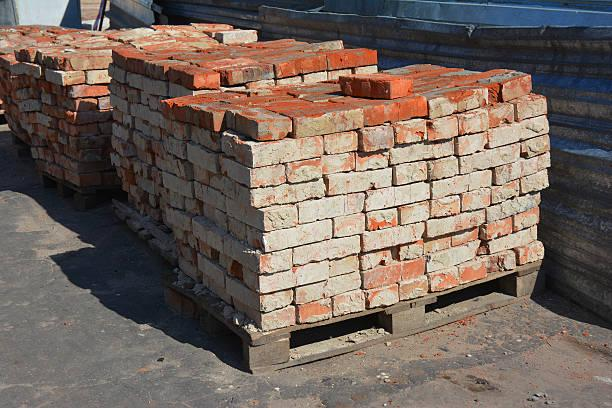Bricks: (243, 260, 329, 294), (231, 135, 322, 167), (264, 220, 331, 252), (293, 108, 365, 137), (294, 236, 362, 266), (296, 273, 361, 304), (489, 115, 550, 148), (459, 142, 520, 174), (362, 222, 427, 252), (231, 241, 293, 272), (278, 97, 356, 120), (367, 183, 431, 211), (481, 224, 537, 255), (431, 171, 492, 199), (428, 241, 482, 272), (327, 171, 396, 195), (427, 210, 486, 238), (417, 77, 484, 101), (391, 140, 455, 164), (224, 273, 262, 312), (270, 53, 328, 78), (227, 196, 264, 232), (191, 216, 228, 252), (464, 64, 517, 89), (234, 102, 293, 123), (299, 197, 344, 224), (327, 48, 377, 71), (194, 181, 227, 213), (365, 262, 402, 290), (159, 209, 196, 236), (187, 141, 218, 173), (199, 253, 226, 288), (501, 193, 540, 217), (261, 306, 297, 332), (362, 246, 399, 271), (230, 66, 274, 87), (189, 124, 220, 153), (223, 156, 251, 188), (290, 180, 326, 204), (250, 164, 287, 187), (288, 158, 323, 182), (160, 176, 195, 200), (458, 109, 489, 136), (159, 193, 198, 214), (264, 207, 298, 231), (502, 76, 533, 102), (363, 103, 399, 125), (299, 299, 332, 323), (210, 171, 238, 199), (479, 216, 513, 239), (260, 289, 294, 312), (251, 185, 290, 205), (129, 74, 166, 95), (363, 126, 394, 151), (155, 157, 190, 179), (457, 88, 489, 112), (395, 163, 428, 186), (256, 119, 292, 140), (130, 58, 166, 79), (460, 258, 489, 284), (401, 275, 430, 301), (202, 203, 228, 232), (176, 255, 202, 284), (334, 214, 365, 238), (368, 284, 400, 307), (129, 183, 156, 210), (427, 95, 457, 119), (157, 137, 187, 161), (130, 202, 160, 226), (323, 154, 357, 175), (56, 121, 98, 138), (397, 119, 428, 142), (431, 267, 458, 293), (522, 169, 550, 194), (46, 69, 87, 86), (521, 153, 550, 177), (333, 292, 366, 313), (397, 98, 427, 121), (517, 98, 547, 121), (427, 118, 458, 140), (330, 255, 361, 277), (324, 133, 358, 153), (513, 206, 540, 231), (130, 104, 162, 125), (166, 67, 194, 91), (61, 56, 109, 70), (429, 158, 459, 180), (458, 133, 488, 155), (367, 209, 398, 230), (495, 161, 521, 186), (492, 180, 520, 203), (489, 250, 517, 273), (401, 203, 430, 225), (431, 196, 461, 217), (131, 162, 161, 183), (65, 83, 107, 98), (489, 103, 515, 127), (358, 151, 389, 171), (125, 145, 156, 165), (134, 117, 162, 139), (46, 69, 87, 84), (76, 109, 111, 126), (522, 136, 549, 158), (463, 189, 490, 211), (43, 105, 74, 123), (388, 75, 413, 96), (451, 228, 480, 246), (183, 66, 223, 79), (228, 217, 247, 244), (424, 236, 452, 254), (403, 258, 426, 279), (172, 104, 196, 124), (136, 178, 162, 196), (520, 243, 543, 263), (193, 110, 215, 130), (249, 226, 265, 253), (110, 45, 127, 70), (400, 243, 424, 260), (193, 74, 220, 89), (31, 146, 56, 162), (190, 165, 209, 186), (64, 98, 97, 110), (113, 108, 132, 128), (222, 133, 237, 158), (58, 154, 80, 171), (109, 95, 128, 114), (345, 195, 364, 213), (130, 131, 149, 149), (113, 123, 131, 142), (87, 69, 109, 84), (371, 81, 390, 98), (109, 79, 125, 99), (354, 79, 371, 97), (220, 251, 233, 274), (108, 138, 125, 155), (117, 169, 136, 184), (19, 99, 39, 113), (237, 185, 250, 206), (488, 205, 504, 222), (199, 242, 215, 259), (181, 246, 195, 265), (236, 114, 248, 136), (111, 155, 130, 168), (65, 171, 80, 187), (23, 63, 40, 77), (161, 102, 174, 120), (95, 120, 111, 134), (488, 85, 499, 104), (247, 120, 258, 139), (15, 51, 34, 62), (150, 95, 163, 111), (172, 123, 187, 136), (97, 98, 112, 111), (56, 131, 71, 144), (224, 236, 233, 257), (342, 77, 353, 94), (227, 111, 236, 130), (127, 88, 138, 103), (47, 87, 65, 96), (161, 121, 172, 134), (187, 237, 197, 251), (139, 91, 148, 105), (41, 96, 52, 107)
